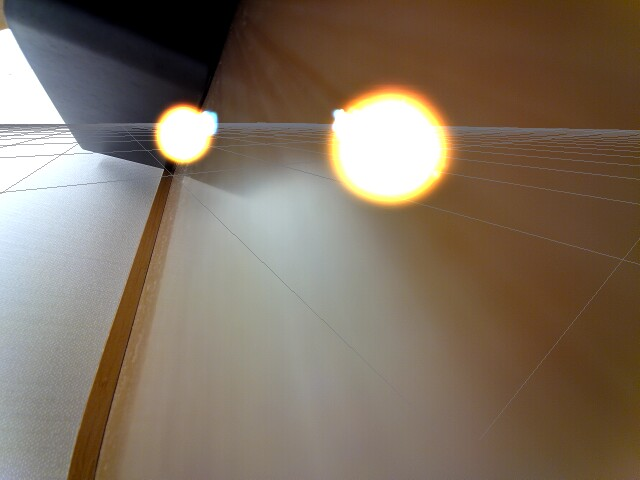fire: (329, 86, 451, 209), (152, 102, 212, 165)
